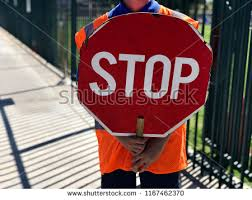Stop: (92, 25, 200, 137)
